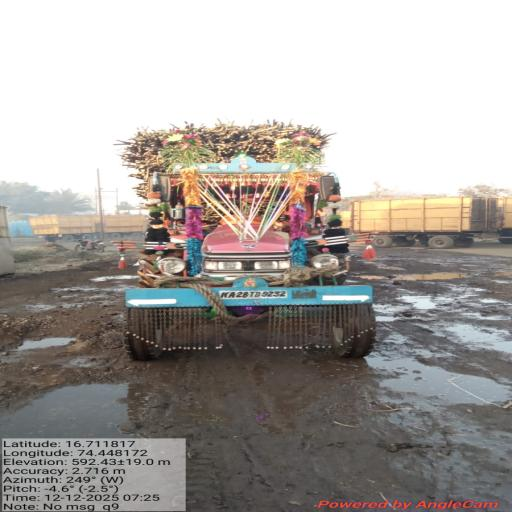number_plate: (208, 287, 296, 302)
